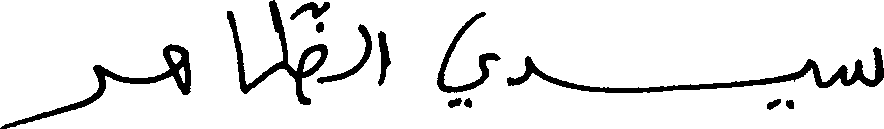ا: (222, 9, 244, 95), (376, 28, 390, 85)
د: (504, 54, 534, 87)
ر: (0, 62, 108, 127)
س: (832, 45, 882, 91)
ظ: (264, 0, 327, 105)
ل: (356, 21, 370, 72)
ه: (161, 42, 193, 96)
ي: (434, 9, 498, 108), (769, 57, 815, 111)
